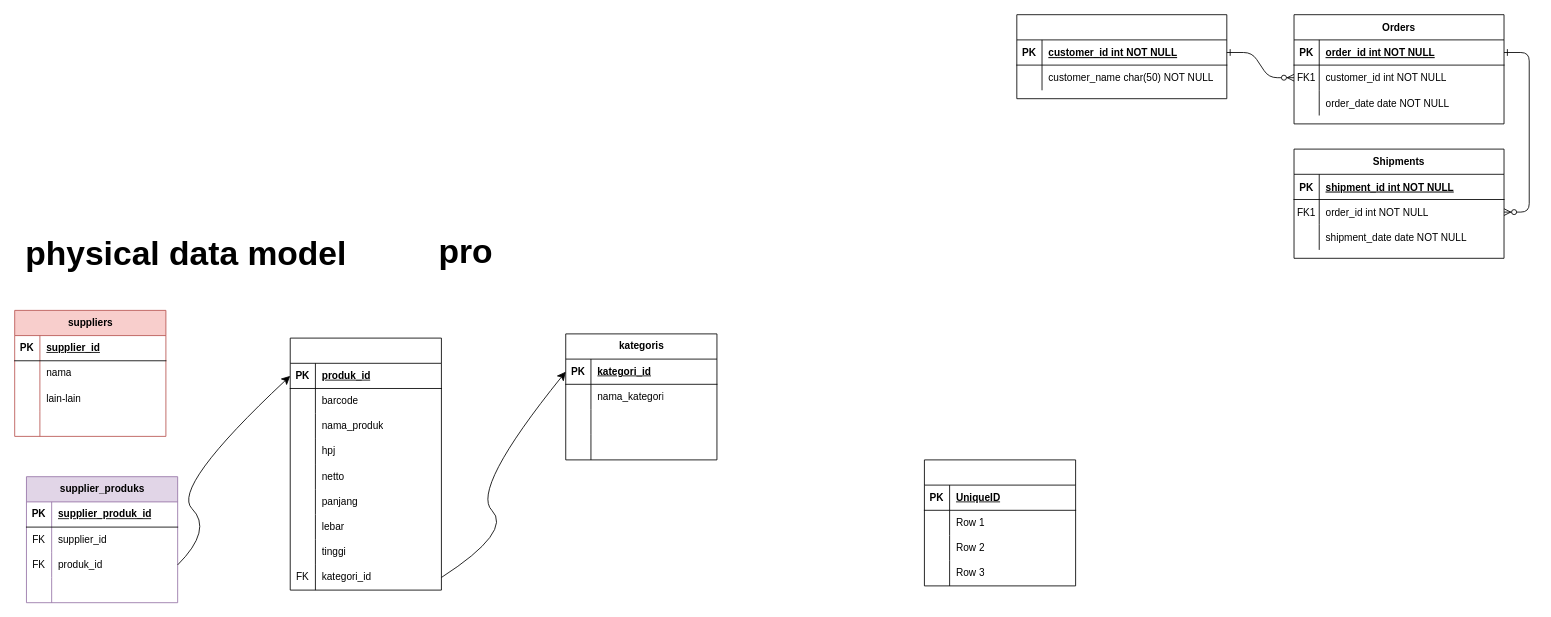
Image size: 1551x617. Some labels were removed from this diagram. The shapes that lost their labels are listed below. From the top down, each one's box as (x1, y1, x2, y2) in pixels, then its label:
(1016, 14, 1227, 99): Customers
(289, 337, 441, 590): produks
(924, 459, 1076, 586): Table
